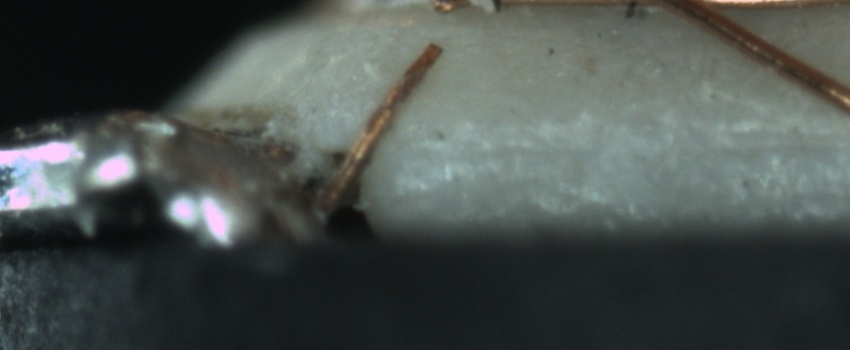DL: (424, 112, 850, 174)
